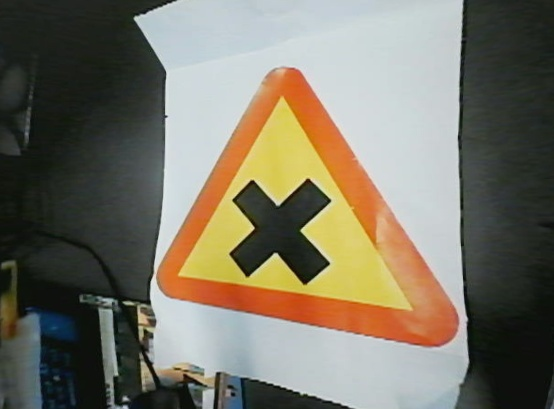junction: (156, 63, 461, 351)
